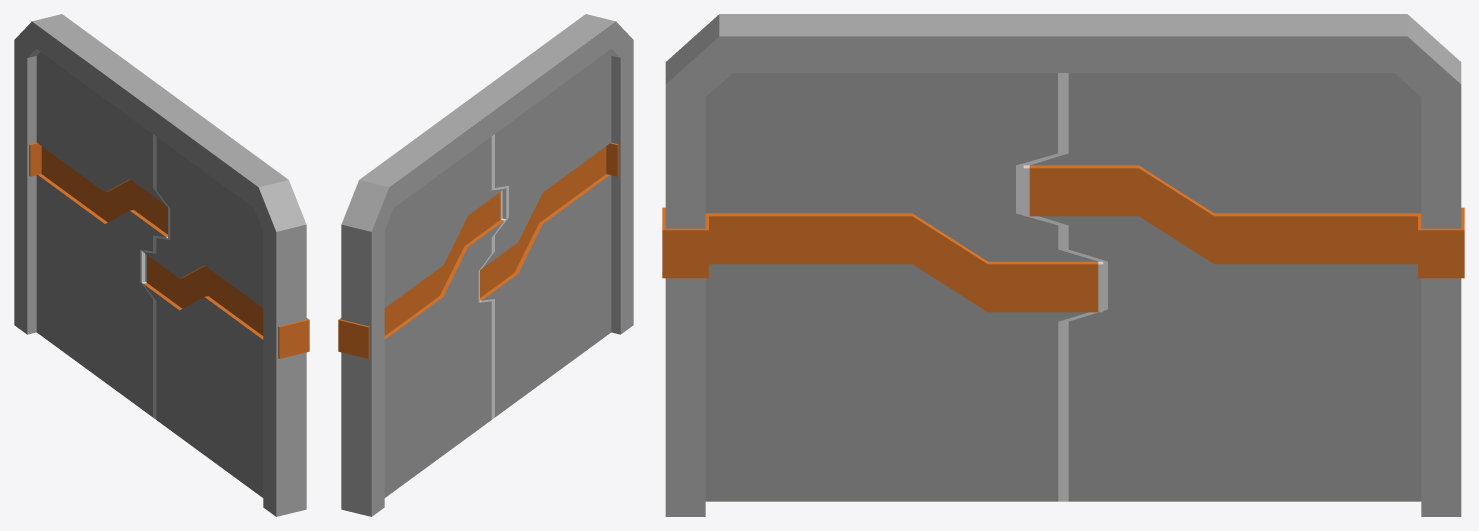
Rendered from Portone.fbx.
3 views of the same model, side by side, from view 1: azimuth 30°, elevation 25°; view 2: azimuth 150°, elevation 25°; view 3: azimuth 270°, elevation 25° (orthographic). The views are drawn at different scales.
Visible parts, largest first — view 1: Interno, Cornice, Decorazione; view 2: Interno, Cornice, Decorazione; view 3: Interno, Cornice, Decorazione.
Boxes of the visible parts, bbox=[...] form: Interno: bbox=[36, 52, 263, 497]; Cornice: bbox=[14, 14, 306, 516]; Decorazione: bbox=[29, 142, 309, 358]; Interno: bbox=[384, 52, 611, 497]; Cornice: bbox=[341, 14, 633, 516]; Decorazione: bbox=[338, 142, 618, 358]; Interno: bbox=[705, 73, 1421, 501]; Cornice: bbox=[665, 14, 1461, 516]; Decorazione: bbox=[662, 207, 1464, 278].
Size of the model in its own units: 0.2137 by 3.02 by 2.
